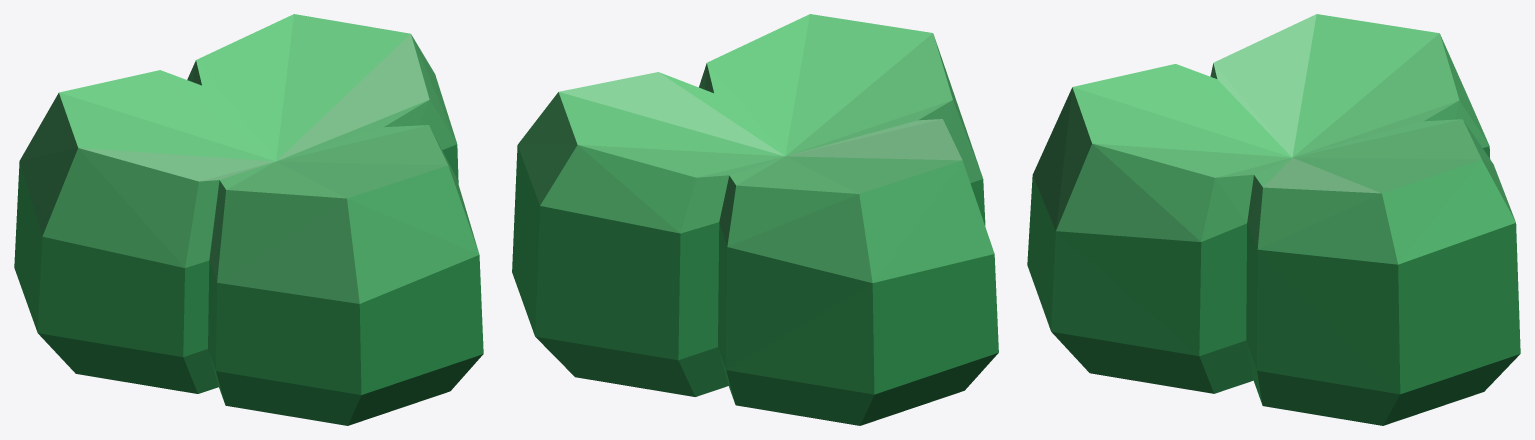
File: emerald_viewport.fbx
3 renders of one model, left to right at view 1: azimuth 30°, elevation 25°; view 2: azimuth 150°, elevation 25°; view 3: azimuth 270°, elevation 25°, orthographic.
Visible parts, largest first — view 1: emerald_viewport_body; view 2: emerald_viewport_body; view 3: emerald_viewport_body.
Part boxes in pixels (x1=…): emerald_viewport_body: x1=14, y1=14, x2=483, y2=425; emerald_viewport_body: x1=512, y1=14, x2=998, y2=425; emerald_viewport_body: x1=1027, y1=14, x2=1520, y2=425.
Size of the model in its own units: 1.28 by 0.6336 by 1.22.
1 material, 1 textured.
